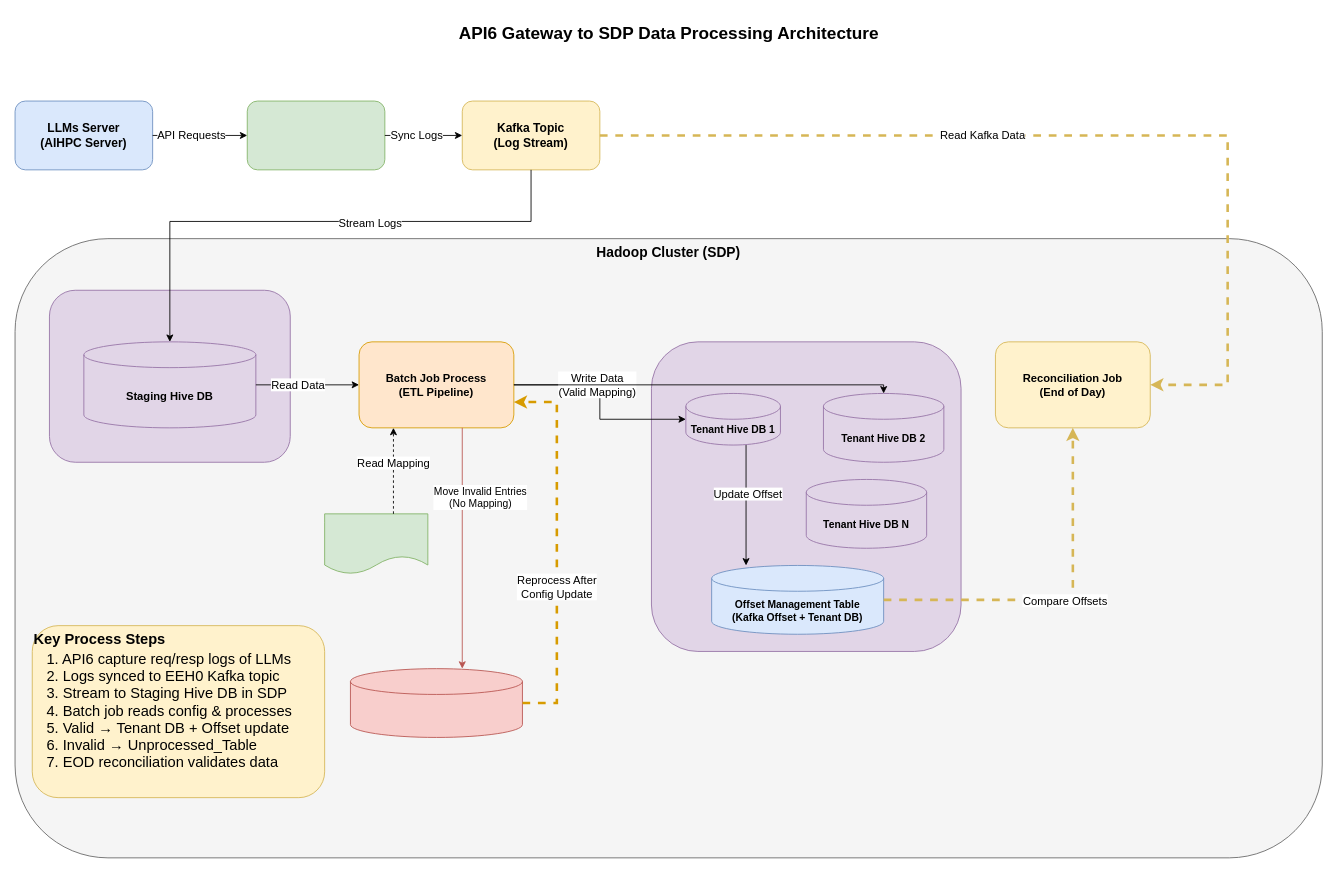
Some shapes in this 1337 by 873 pixel diagram are drawn without their labels. Each missing label, with the box of its shape:
API6 (API Gateway): (246, 100, 385, 170)
Config File (Client-Tenant Hive DB Mapping): (324, 513, 428, 574)
SIP (AIF) - Staging Area: (49, 289, 290, 462)
SIP (AIF) - Tenant Databases: (651, 341, 961, 651)
Unprocessed_Table (Invalid Mapping): (350, 668, 522, 737)
